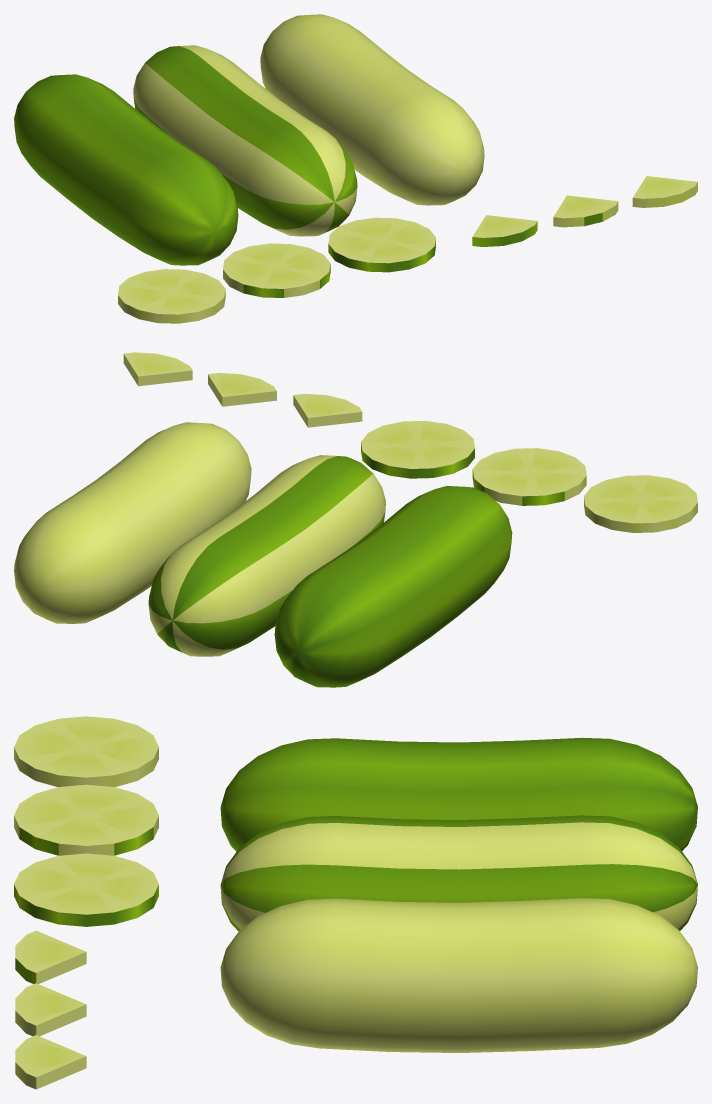
File: cucumber.fbx
3 views of the same model, one above another, from view 1: azimuth 30°, elevation 25°; view 2: azimuth 150°, elevation 25°; view 3: azimuth 270°, elevation 25° (orthographic). The views are drawn at different scales.
Visible parts, largest first — view 1: cucumber, cucumber_Shaved, cucumber_Shaved_Half, cucumberSlice_Shaved, cucumberSlice, cucumberSlice_Shaved_Half, cucumberSlice_Quarter_Shaved_Half, cucumberSlice_Quarter_Shaved, cucumberSlice_Quarter; view 2: cucumber, cucumber_Shaved, cucumber_Shaved_Half, cucumberSlice_Shaved, cucumberSlice, cucumberSlice_Shaved_Half, cucumberSlice_Quarter_Shaved, cucumberSlice_Quarter, cucumberSlice_Quarter_Shaved_Half; view 3: cucumber_Shaved, cucumber_Shaved_Half, cucumber, cucumberSlice, cucumberSlice_Shaved_Half, cucumberSlice_Shaved, cucumberSlice_Quarter, cucumberSlice_Quarter_Shaved, cucumberSlice_Quarter_Shaved_Half.
Boxes of the visible parts, x1=… form: cucumber: x1=14, y1=74, x2=238, y2=265; cucumber_Shaved: x1=260, y1=14, x2=484, y2=205; cucumber_Shaved_Half: x1=133, y1=45, x2=357, y2=236; cucumberSlice_Shaved: x1=118, y1=269, x2=225, y2=323; cucumberSlice: x1=328, y1=217, x2=435, y2=272; cucumberSlice_Shaved_Half: x1=223, y1=243, x2=330, y2=297; cucumberSlice_Quarter_Shaved_Half: x1=553, y1=195, x2=618, y2=227; cucumberSlice_Quarter_Shaved: x1=632, y1=176, x2=697, y2=207; cucumberSlice_Quarter: x1=472, y1=215, x2=537, y2=246; cucumber: x1=274, y1=486, x2=512, y2=687; cucumber_Shaved: x1=14, y1=422, x2=251, y2=623; cucumber_Shaved_Half: x1=148, y1=455, x2=385, y2=656; cucumberSlice_Shaved: x1=584, y1=475, x2=697, y2=532; cucumberSlice: x1=361, y1=421, x2=474, y2=478; cucumberSlice_Shaved_Half: x1=472, y1=448, x2=586, y2=505; cucumberSlice_Quarter_Shaved: x1=123, y1=352, x2=192, y2=386; cucumberSlice_Quarter: x1=293, y1=393, x2=362, y2=427; cucumberSlice_Quarter_Shaved_Half: x1=208, y1=373, x2=276, y2=406; cucumber_Shaved: x1=220, y1=898, x2=697, y2=1052; cucumber_Shaved_Half: x1=220, y1=815, x2=697, y2=931; cucumber: x1=220, y1=737, x2=697, y2=851; cucumberSlice: x1=14, y1=853, x2=158, y2=926; cucumberSlice_Shaved_Half: x1=14, y1=784, x2=158, y2=855; cucumberSlice_Shaved: x1=14, y1=716, x2=158, y2=786; cucumberSlice_Quarter: x1=15, y1=930, x2=86, y2=983; cucumberSlice_Quarter_Shaved: x1=15, y1=1035, x2=86, y2=1089; cucumberSlice_Quarter_Shaved_Half: x1=15, y1=983, x2=86, y2=1036.
Size of the model in its own units: 3.18 by 2.55 by 0.5792.
